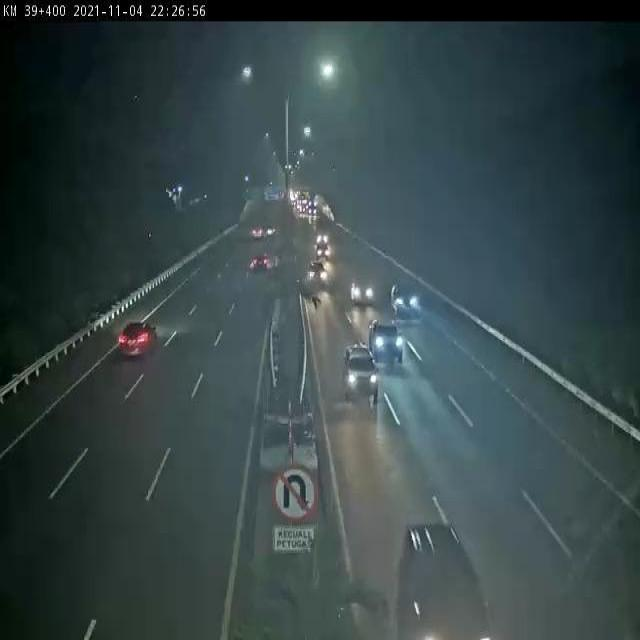car: (344, 343, 377, 401), (367, 315, 403, 364), (120, 318, 155, 358), (347, 276, 378, 305), (390, 284, 416, 317)
